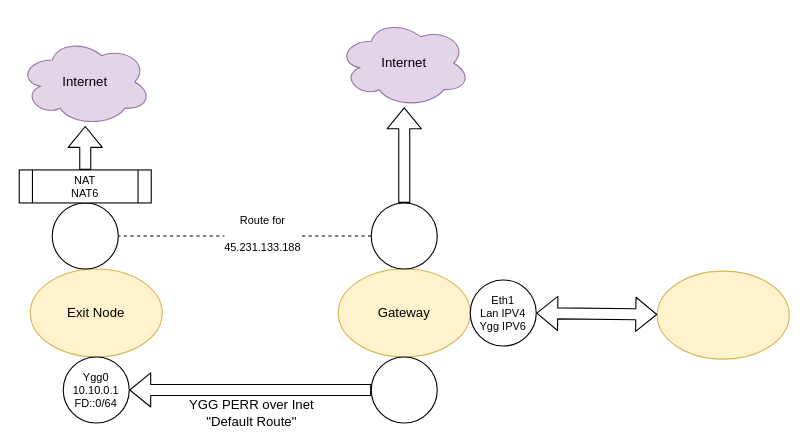
The diagram is 809 pixels wide and 448 high, and some of its shapes have lost their labels. The shapes that lost their labels are listed below. From the top down, each one's centre as x and y in pixels, then its label:
point 84,235: Eth0 45.231.133.188
point 403,235: Eth0 InternetIP
point 722,314: Client LAN ipv4 Ygg IPV6
point 403,389: Ygg0 10.10.0.3 FD::0/64
